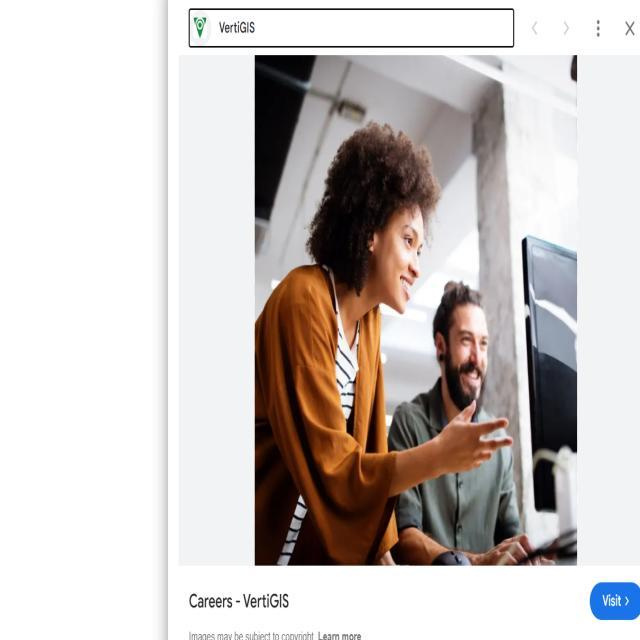face_no_mask: (363, 186, 426, 312), (435, 308, 495, 402)
